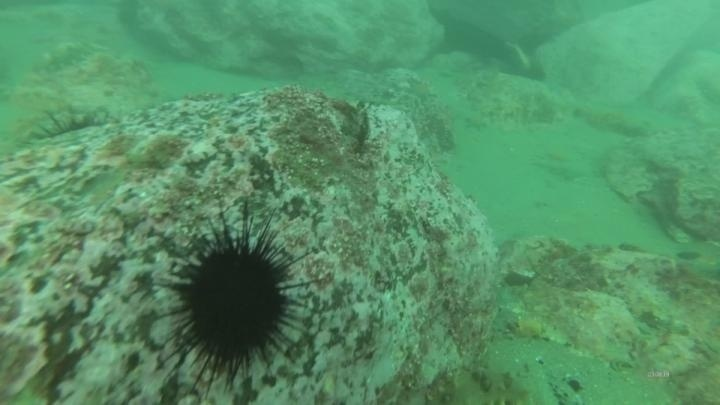echinus: (153, 214, 312, 387)
holothurian: (439, 363, 536, 404), (29, 36, 108, 77)
starfish: (405, 76, 438, 103)
